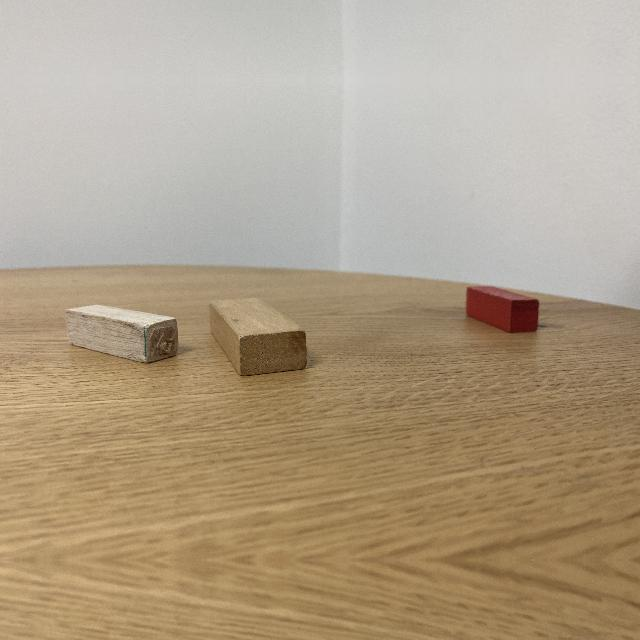block: (67, 305, 179, 363)
jenga: (209, 298, 308, 377)
red block: (467, 286, 539, 333)
